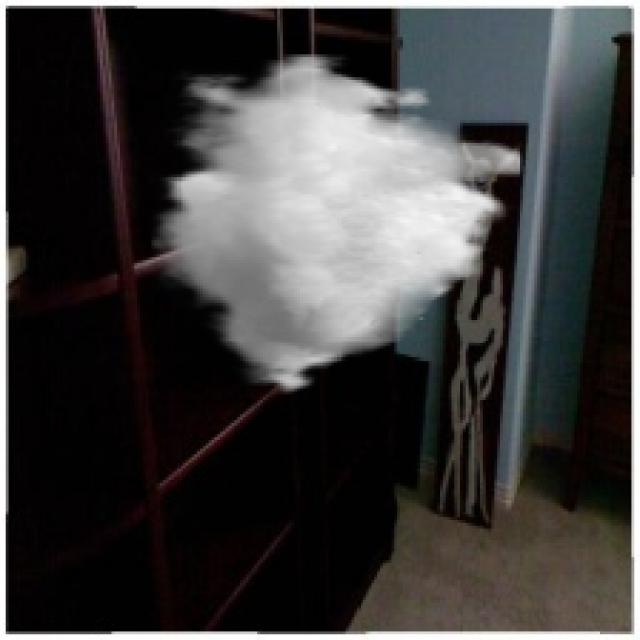smoke: (151, 54, 523, 400)
